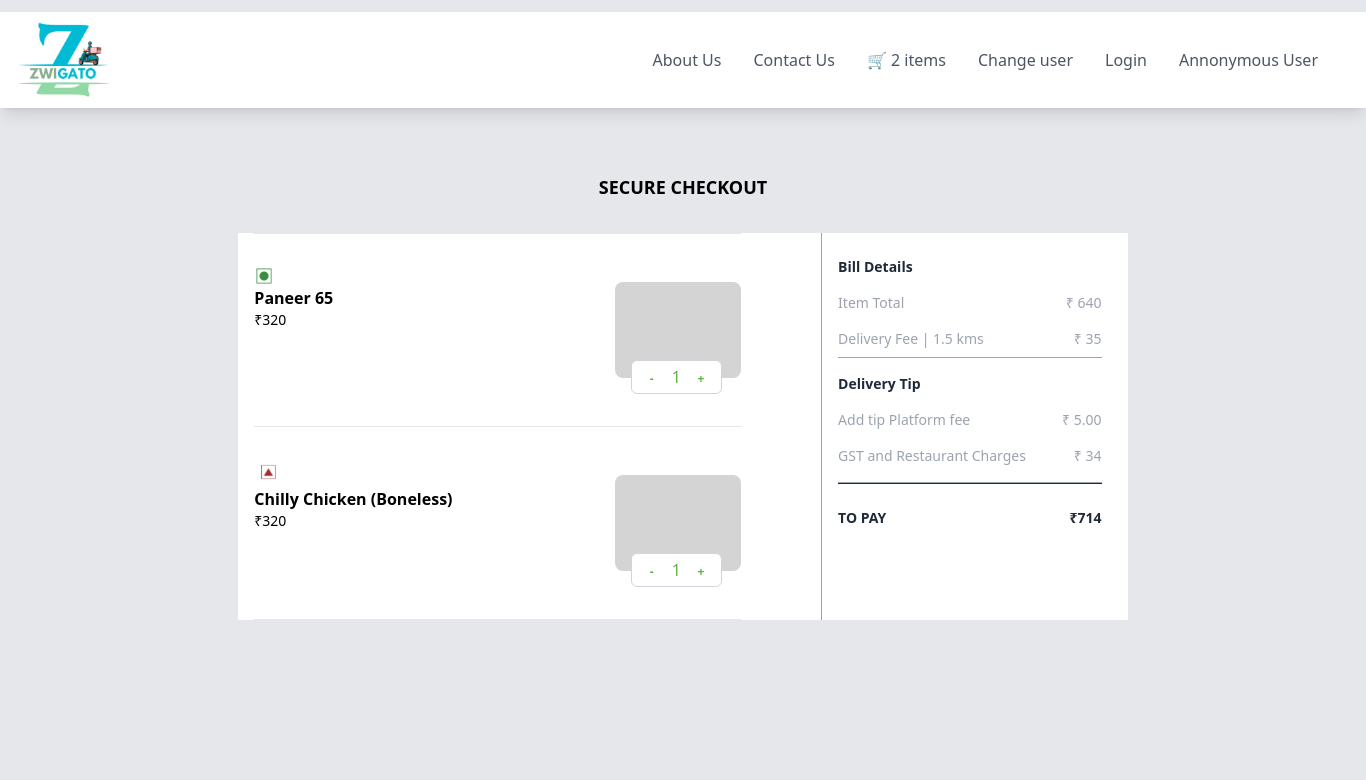
Test case: should Cart component have 2 items
The image size is (1366, 780).
Check: the number of elements with test id "cartitem" is 2, box [254,234,741,426]; [254,426,741,620]
Click the 1st button "+".
click(701, 378)  # box [681,370,721,386]
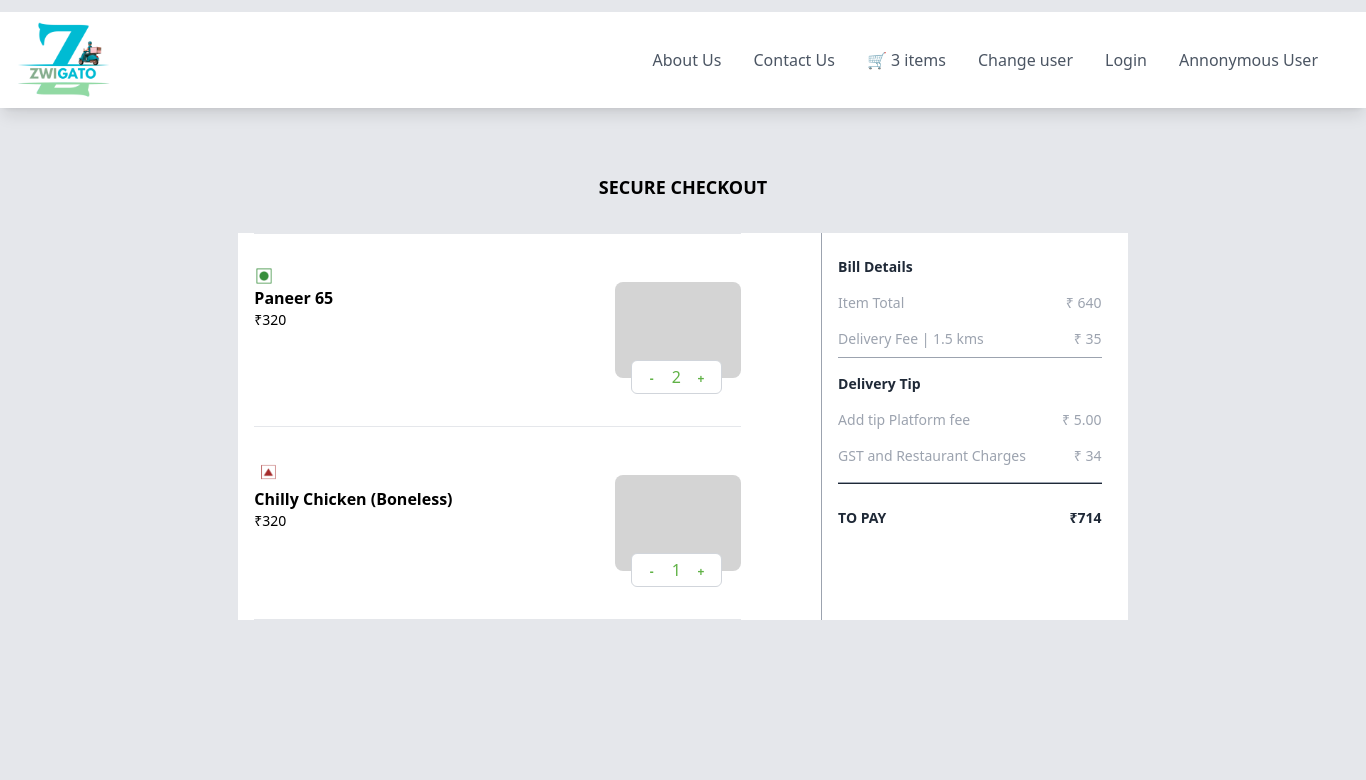
Check: the link "🛒 3 items" is shown, box [867,49,946,71]
